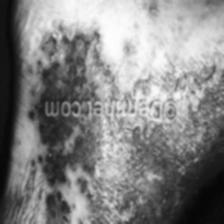Non-Cancerous Skin Condition: (29, 123, 169, 224), (24, 18, 132, 96), (181, 41, 224, 152)
